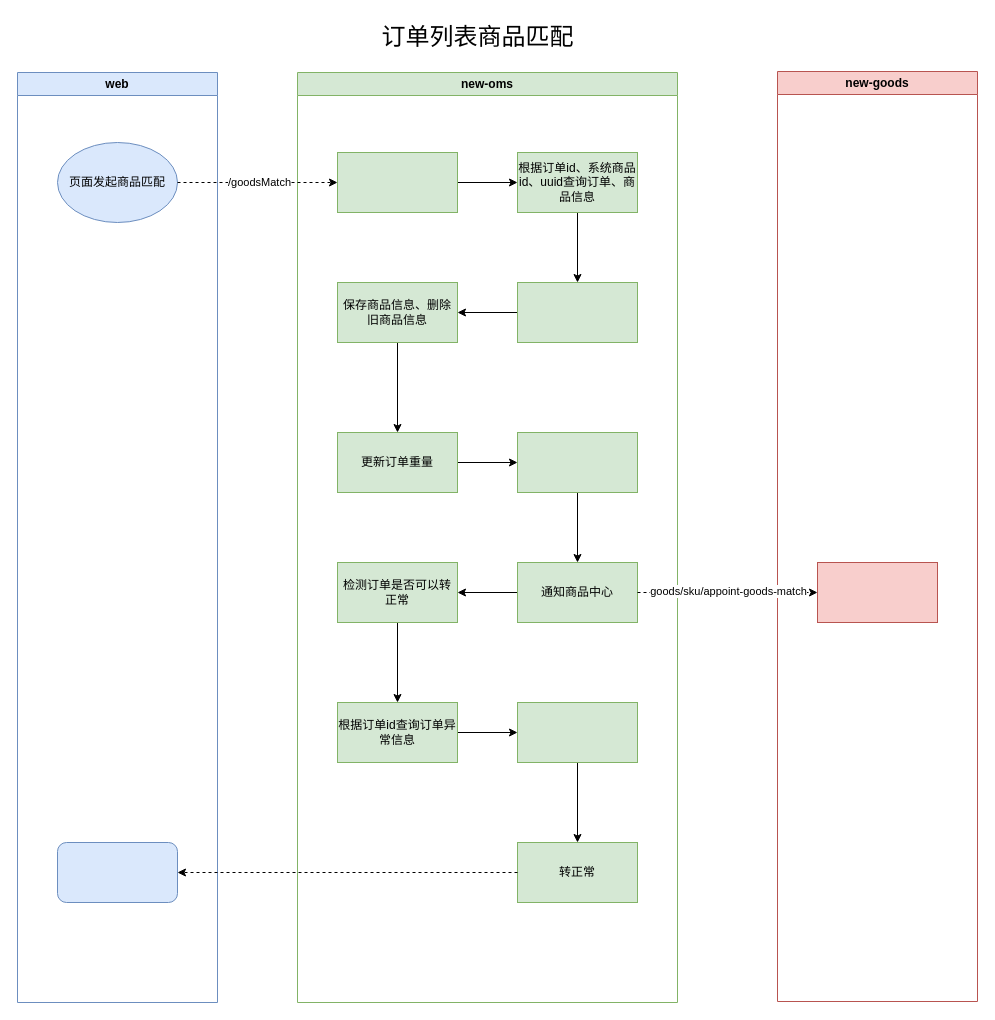
The diagram is 995 pixels wide and 1020 high, and some of its shapes have lost their labels. The shapes that lost their labels are listed below. From the top down, each one's centre as x and y in pixels, then its label:
At (x=397, y=182): "将订单分成500一份处理".
At (x=577, y=312): "组装商品匹配信息".
At (x=577, y=462): "记录日志".
At (x=877, y=592): "修改商品匹配".
At (x=577, y=732): "判断订单是否符合转正常的条件".
At (x=117, y=872): "结束".
